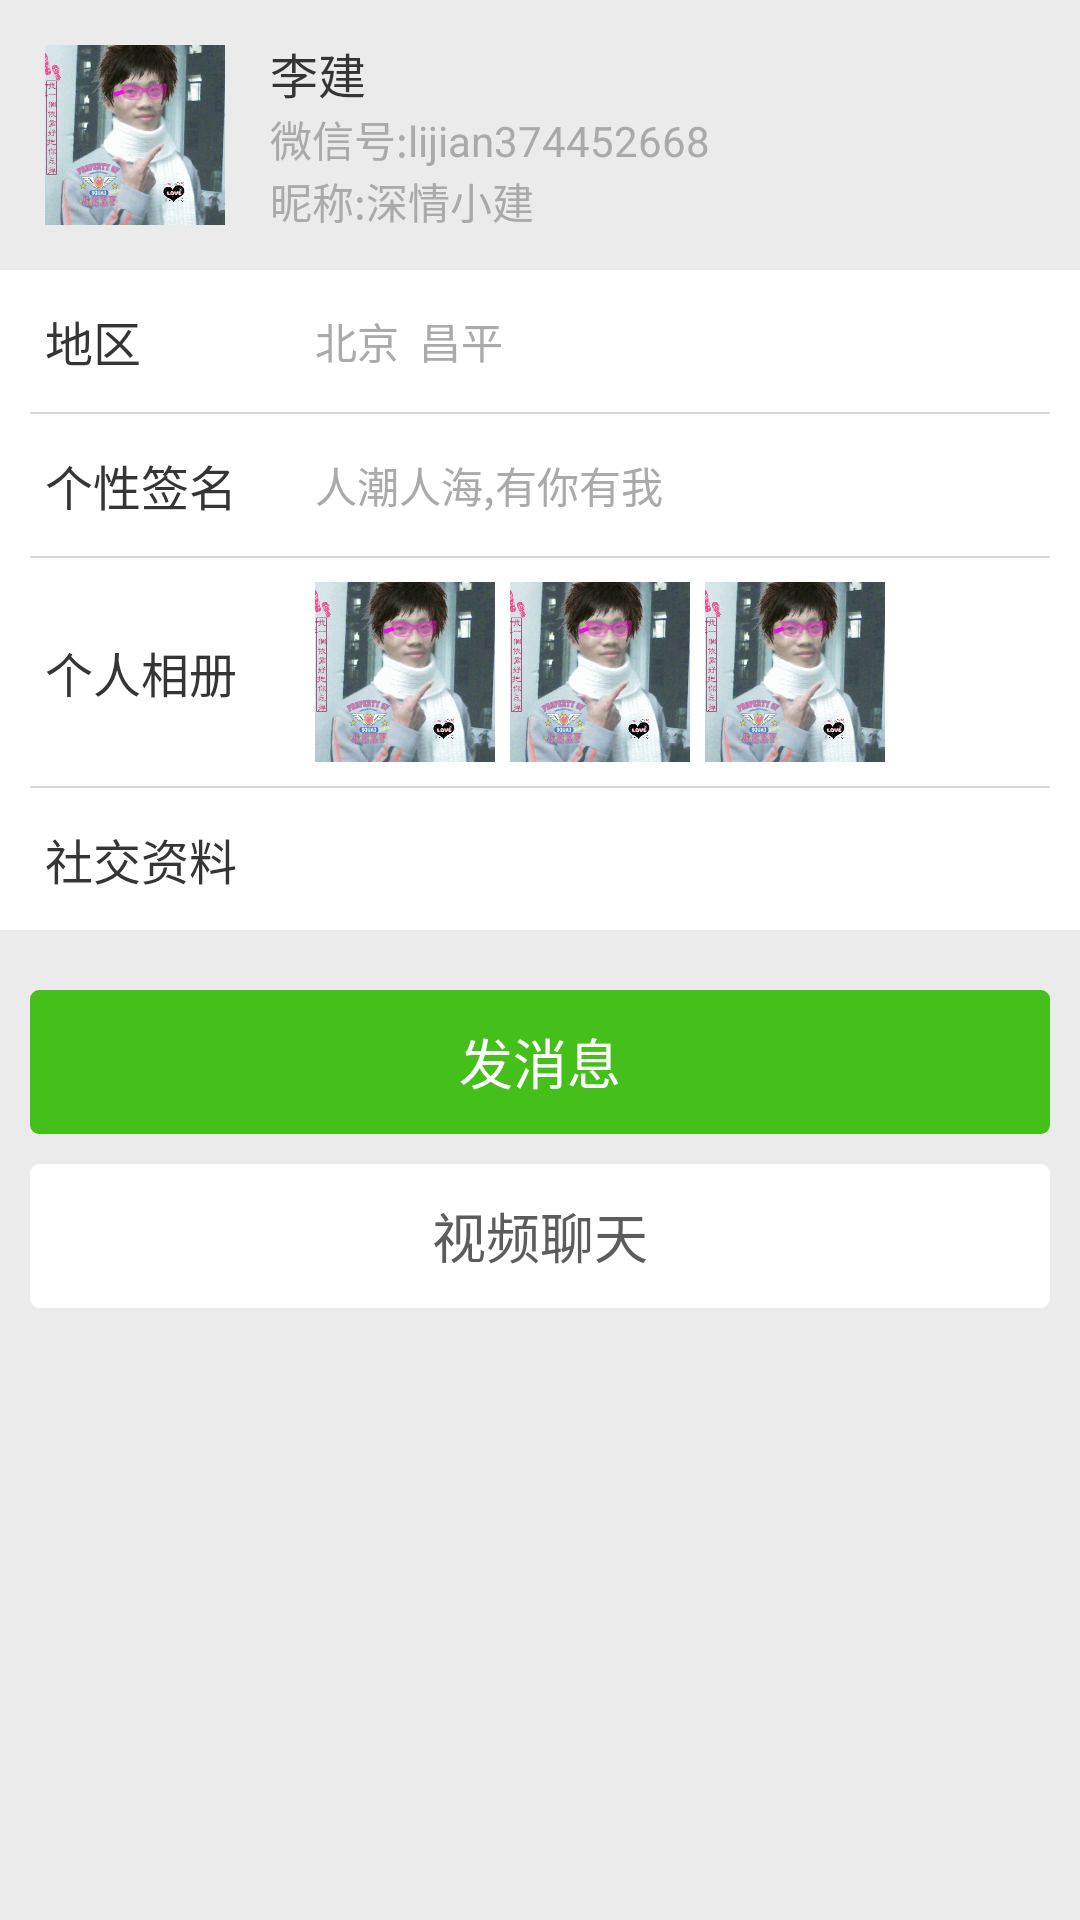

Icon bounding boxes for this 1080 x 1920 phone screenshot, format {"x1": x1, "y1": y1, "x2": x2, "y2": y2}:
user picture: {"x1": 45, "y1": 45, "x2": 225, "y2": 225}, {"x1": 315, "y1": 582, "x2": 495, "y2": 762}, {"x1": 510, "y1": 582, "x2": 690, "y2": 762}, {"x1": 705, "y1": 582, "x2": 885, "y2": 762}
